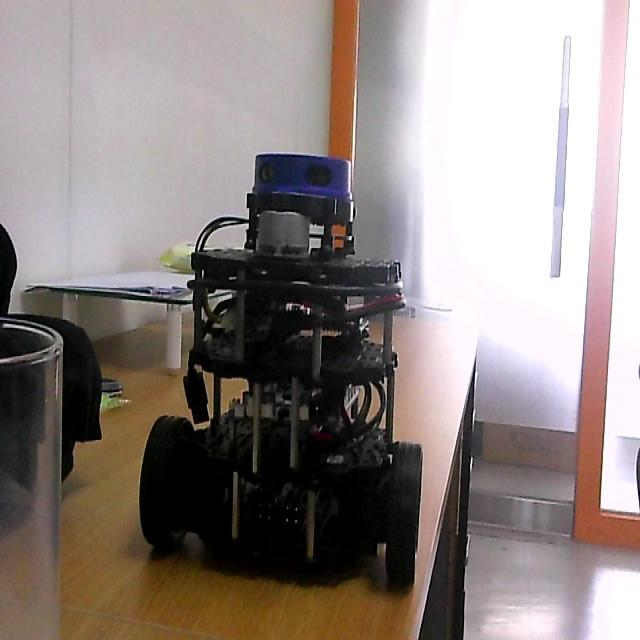turtle: (138, 149, 424, 594)
